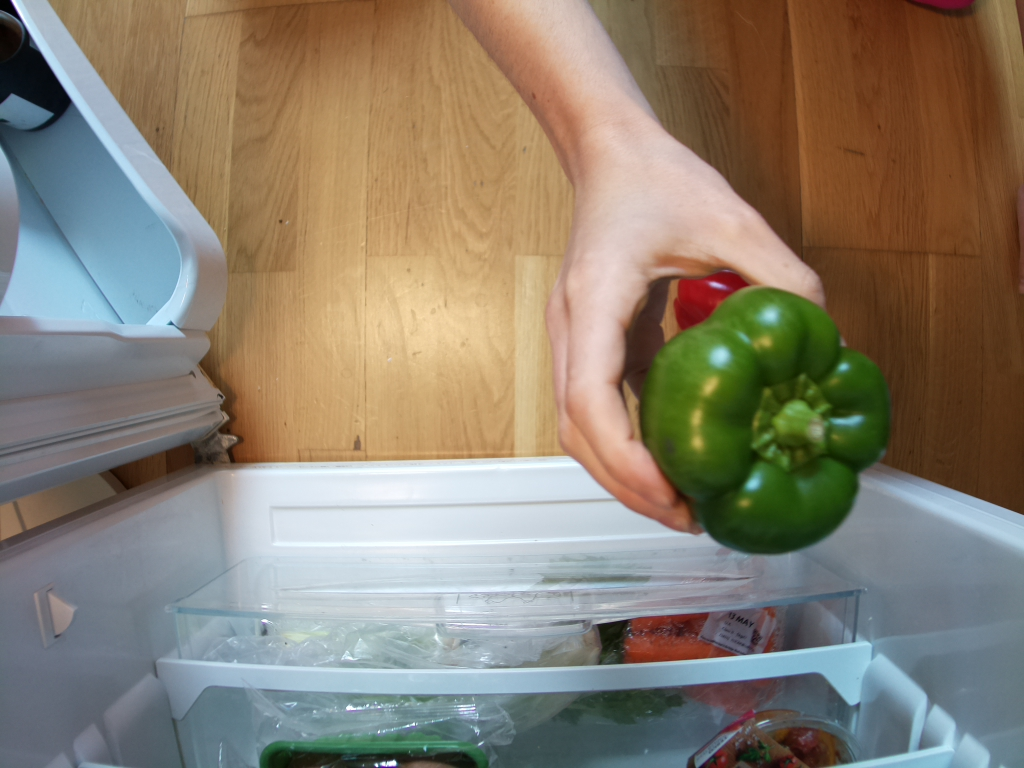pepper: (636, 289, 889, 557)
